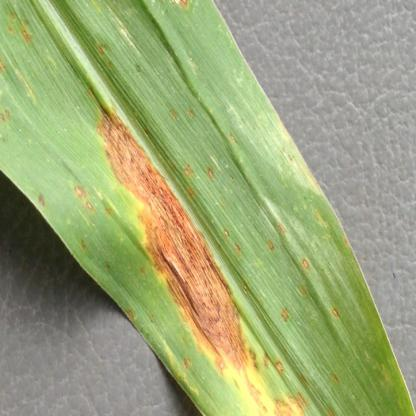corn leaf blight: (2, 3, 370, 414)
